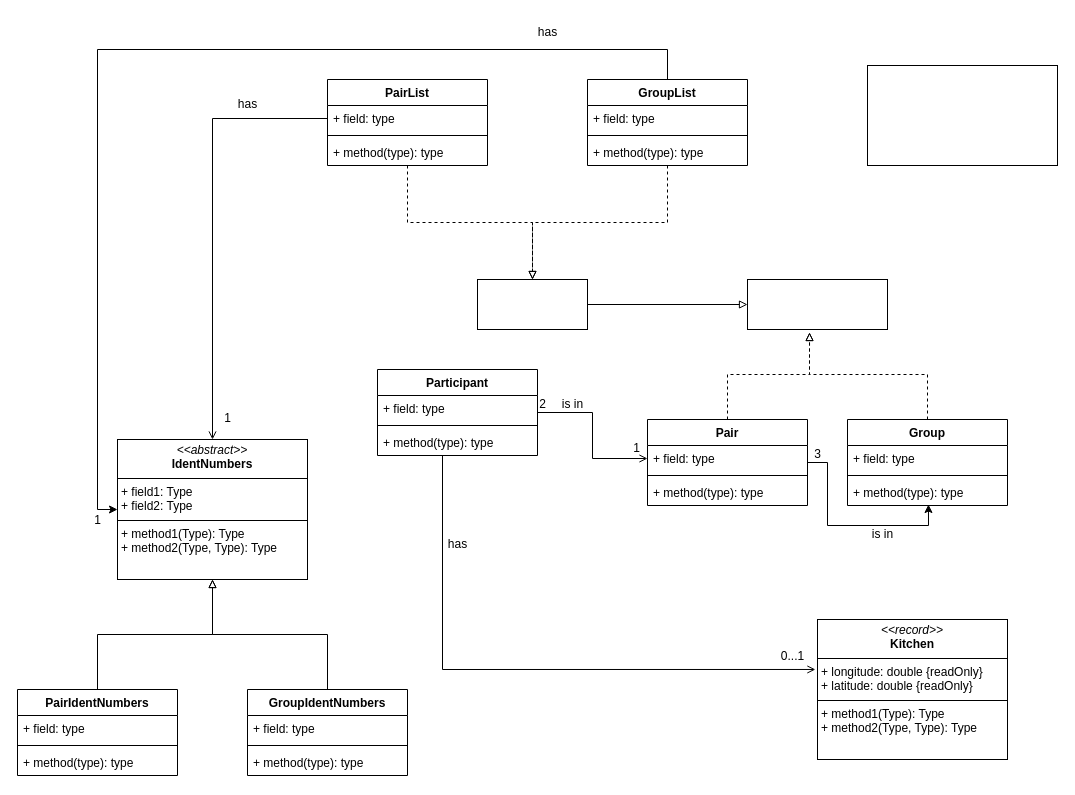
Some shapes in this 1075 by 795 pixel diagram are drawn without their labels. Each missing label, with the centre of its shape:
<<enumeration>> Course STARTER MAIN DESSERT: (962,115)
«interface» ParticipantCollection: (817,304)
«interface» ParticipantList: (532,304)
